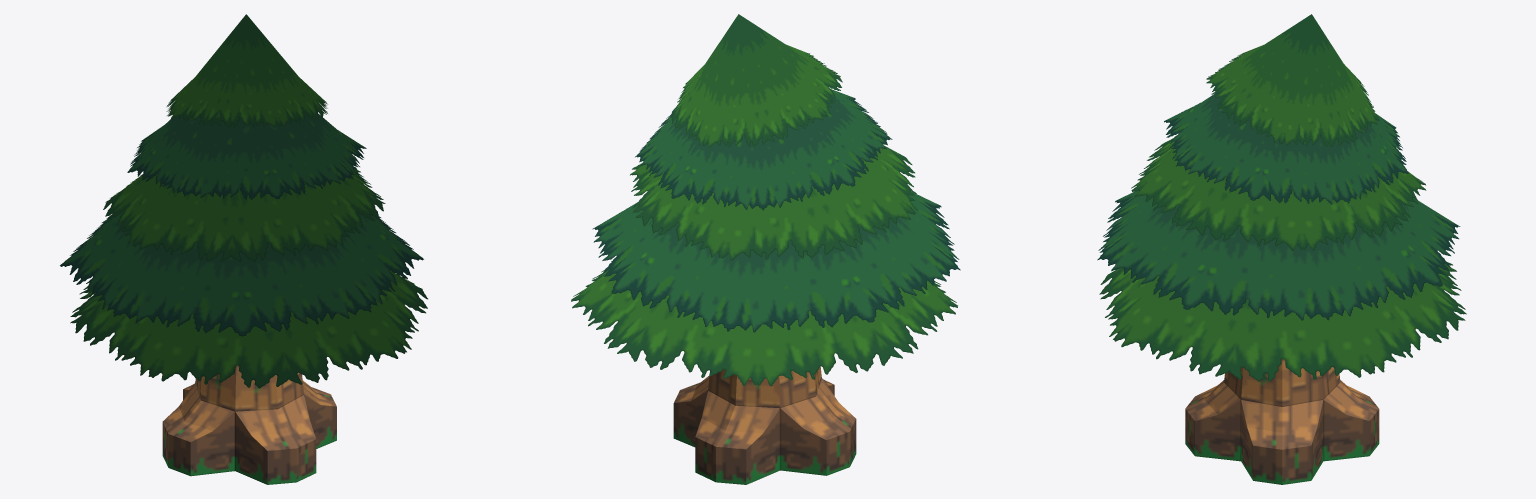
File: Tree_01.fbx
3 renders of one model, left to right at view 1: azimuth 30°, elevation 25°; view 2: azimuth 150°, elevation 25°; view 3: azimuth 270°, elevation 25°, orthographic. The views are drawn at different scales.
Visible parts, largest first — view 1: Leaves, Trunk; view 2: Leaves, Trunk; view 3: Leaves, Trunk.
Part boxes in pixels (x1,y1,x2,y2): Leaves: [60, 14, 427, 388]; Trunk: [162, 365, 336, 484]; Leaves: [571, 14, 960, 386]; Trunk: [673, 366, 856, 484]; Leaves: [1097, 14, 1466, 381]; Trunk: [1185, 359, 1379, 484].
Size of the model in its own units: 49.12 by 49.53 by 49.1.
